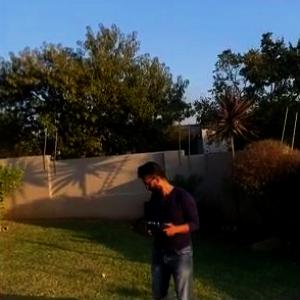follow: (134, 158, 204, 299)
